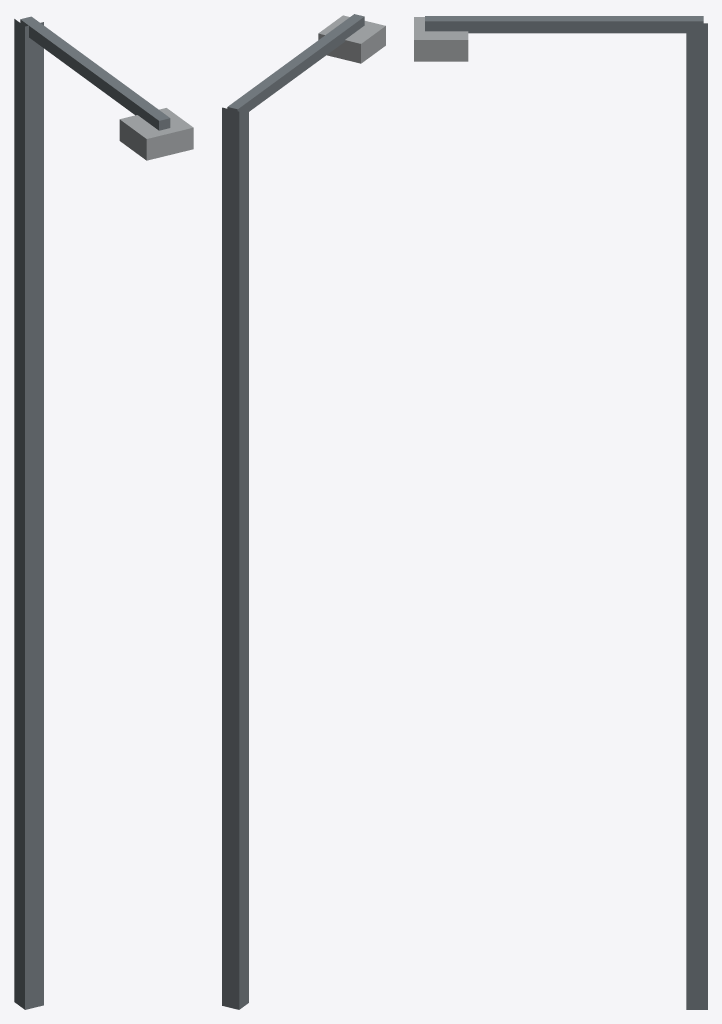
File: h28_road_light.gltf
The picture shows the model from 3 angles, left to right: view 1: azimuth 30°, elevation 25°; view 2: azimuth 150°, elevation 25°; view 3: azimuth 270°, elevation 25°; orthographic projection. The views are drawn at different scales.
Visible parts, largest first — view 1: h28_road_light; view 2: h28_road_light; view 3: h28_road_light.
Boxes of the visible parts, left/top/right/bottom form: h28_road_light: left=14, top=16, right=193, bottom=1009; h28_road_light: left=222, top=14, right=385, bottom=1009; h28_road_light: left=414, top=16, right=707, bottom=1009.
Bounding box in the file's own units: 0.5 × 10 × 2.7.
